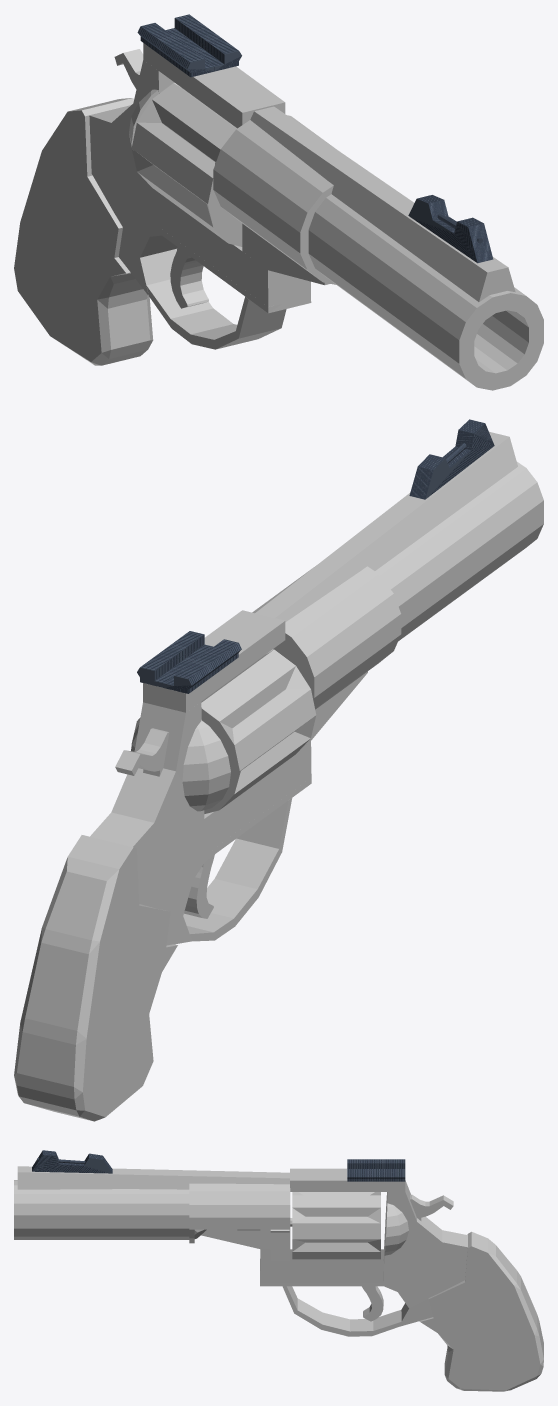
Rendered from RevolverVar2.fbx.
3 views of the same model, one above another, from view 1: azimuth 30°, elevation 25°; view 2: azimuth 150°, elevation 25°; view 3: azimuth 270°, elevation 25° (orthographic). The views are drawn at different scales.
Parts seen in each view (by area): view 1: Plane.004, Cube, Cube.002, Cube.003, Cube.001, Cylinder.001, Предохранитель/спуск.крючок, Cube.004, Plane.007, Plane.003, Plane, Plane.001 (+2 smaller); view 2: Plane.004, Cube.002, Cube, Cylinder.001, Cube.003, Cube.001, Предохранитель/спуск.крючок, Cube.004, Plane.007, Sphere, Plane.003, Plane.002 (+2 smaller); view 3: Plane.004, Cube.002, Cube, Cylinder.001, Cube.003, Cube.001, Предохранитель/спуск.крючок, Cube.004, Plane.007, Plane.003, Plane, Sphere (+3 smaller).
Part boxes in pixels (<box>): Plane.004: <box>14,98,153,365</box>; Cube: <box>308,194,543,390</box>; Cube.002: <box>89,60,311,313</box>; Cube.003: <box>213,115,335,284</box>; Cube.001: <box>250,106,515,301</box>; Cylinder.001: <box>131,82,242,246</box>; Предохранитель/спуск.крючок: <box>146,279,286,349</box>; Cube.004: <box>143,43,285,128</box>; Plane.007: <box>137,14,241,77</box>; Plane.003: <box>408,195,493,263</box>; Plane: <box>242,223,324,284</box>; Plane.001: <box>170,247,208,308</box>; Plane.004: <box>14,835,177,1121</box>; Cube.002: <box>90,702,311,945</box>; Cube: <box>375,461,543,641</box>; Cylinder.001: <box>131,649,316,813</box>; Cube.003: <box>252,566,401,709</box>; Cube.001: <box>255,431,517,622</box>; Предохранитель/спуск.крючок: <box>183,798,292,941</box>; Cube.004: <box>143,610,285,712</box>; Plane.007: <box>137,631,241,693</box>; Sphere: <box>131,720,230,811</box>; Plane.003: <box>409,419,494,499</box>; Plane.002: <box>115,728,169,776</box>; Plane.004: <box>419,1231,543,1391</box>; Cube.002: <box>260,1180,467,1326</box>; Cube: <box>14,1180,206,1239</box>; Cylinder.001: <box>292,1192,380,1259</box>; Cube.003: <box>189,1183,290,1243</box>; Cube.001: <box>17,1166,289,1189</box>; Предохранитель/спуск.крючок: <box>282,1286,401,1336</box>; Cube.004: <box>290,1168,405,1191</box>; Plane.007: <box>347,1159,405,1181</box>; Plane.003: <box>32,1150,112,1173</box>; Plane: <box>201,1229,290,1249</box>; Sphere: <box>384,1201,408,1255</box>.
Size of the model in its own units: 81.61 by 290 by 596.
